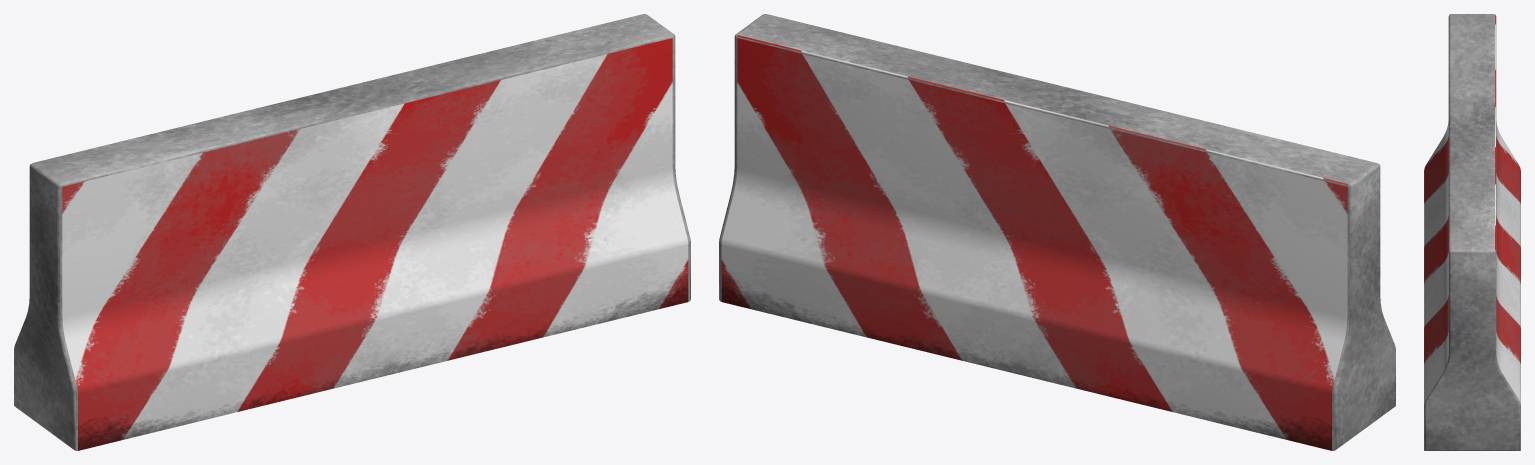
The model's file is construction_barrier.glb.
3 renders of one model, left to right at view 1: azimuth 30°, elevation 25°; view 2: azimuth 150°, elevation 25°; view 3: azimuth 270°, elevation 25°, orthographic. The views are drawn at different scales.
Parts seen in each view (by area): view 1: Barrier_Concrete_LOD_0; view 2: Barrier_Concrete_LOD_0; view 3: Barrier_Concrete_LOD_0.
Boxes of the visible parts, bbox=[...] form: Barrier_Concrete_LOD_0: bbox=[14, 14, 690, 450]; Barrier_Concrete_LOD_0: bbox=[719, 14, 1395, 450]; Barrier_Concrete_LOD_0: bbox=[1424, 14, 1520, 450].
Bounding box in the file's own units: 6.39 × 2.52 × 1.1.
2 materials, 2 textured.
